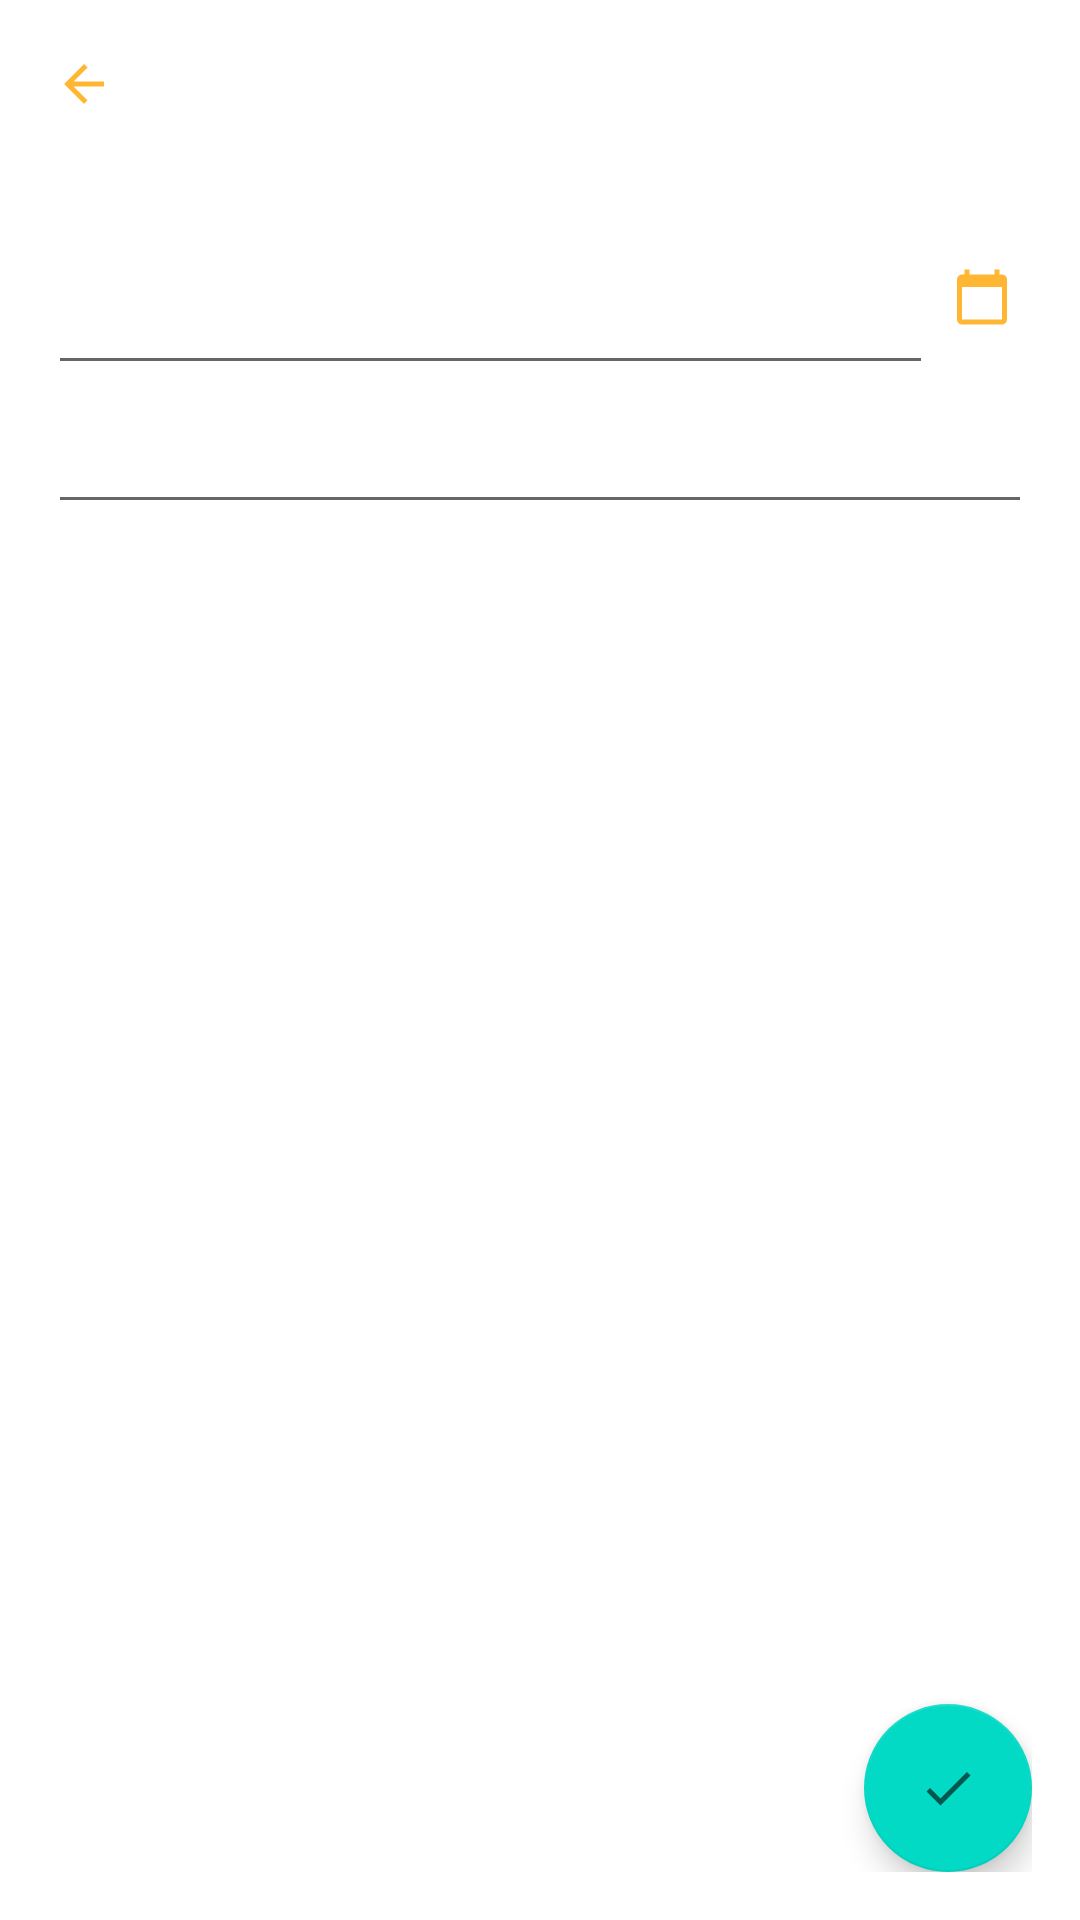

Icons on this 1080 × 1920 Android screen, each with the point to tap as (x=x, y=y):
add items ok: (x=948, y=1788)
back main: (x=84, y=84)
calengar: (x=982, y=297)
